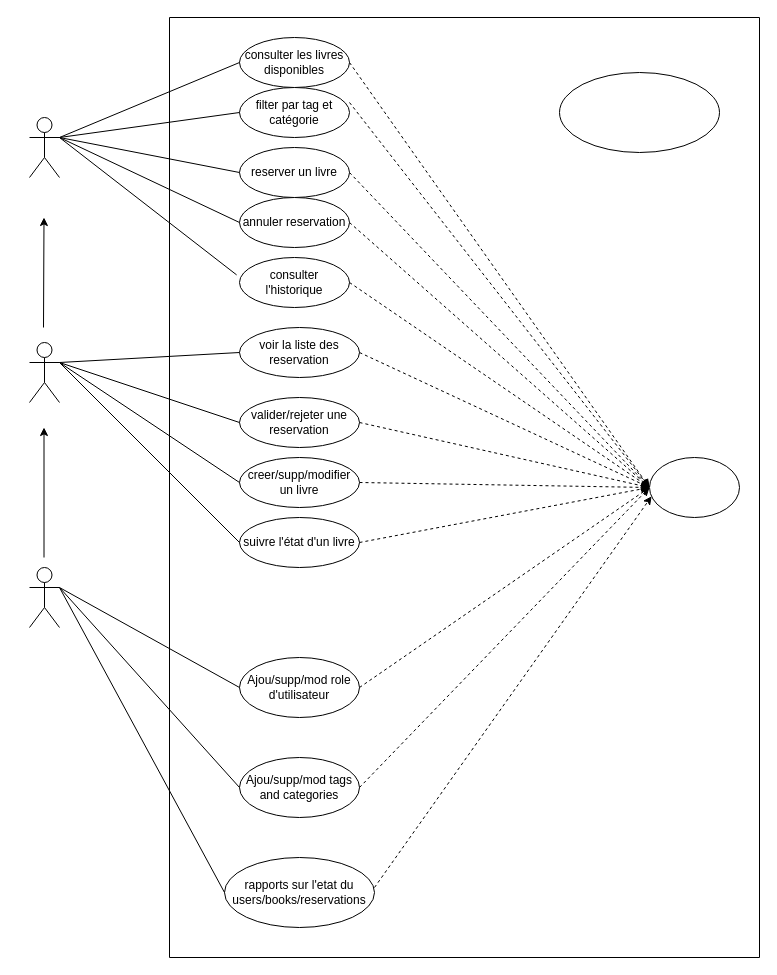
Some shapes in this 777 by 975 pixel diagram are drawn without their labels. The shapes that lost their labels are listed below. From the top down, each one's box as (x1, y1, x2, y2) in pixels, then its label:
(558, 72, 720, 152): Gestion de bibliothèque scholaire
(28, 116, 60, 178): Apprenant
(28, 342, 60, 402): Gérant
(648, 456, 740, 518): LogIn
(28, 566, 60, 628): admin
